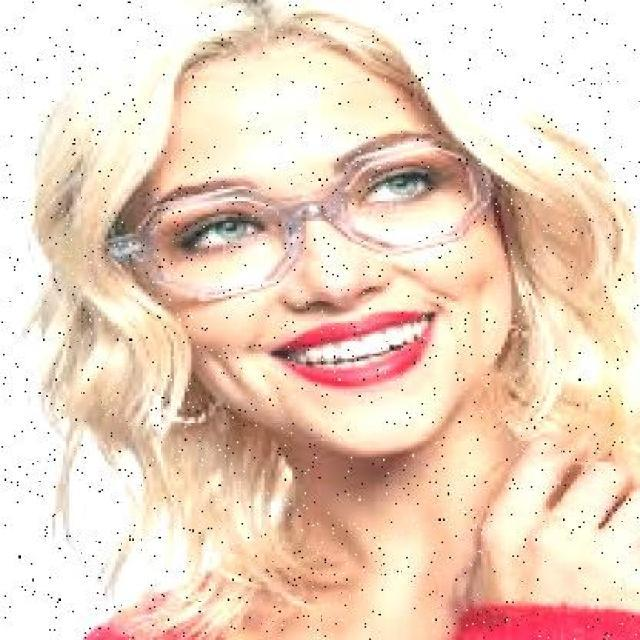glasses: (93, 132, 524, 303)
